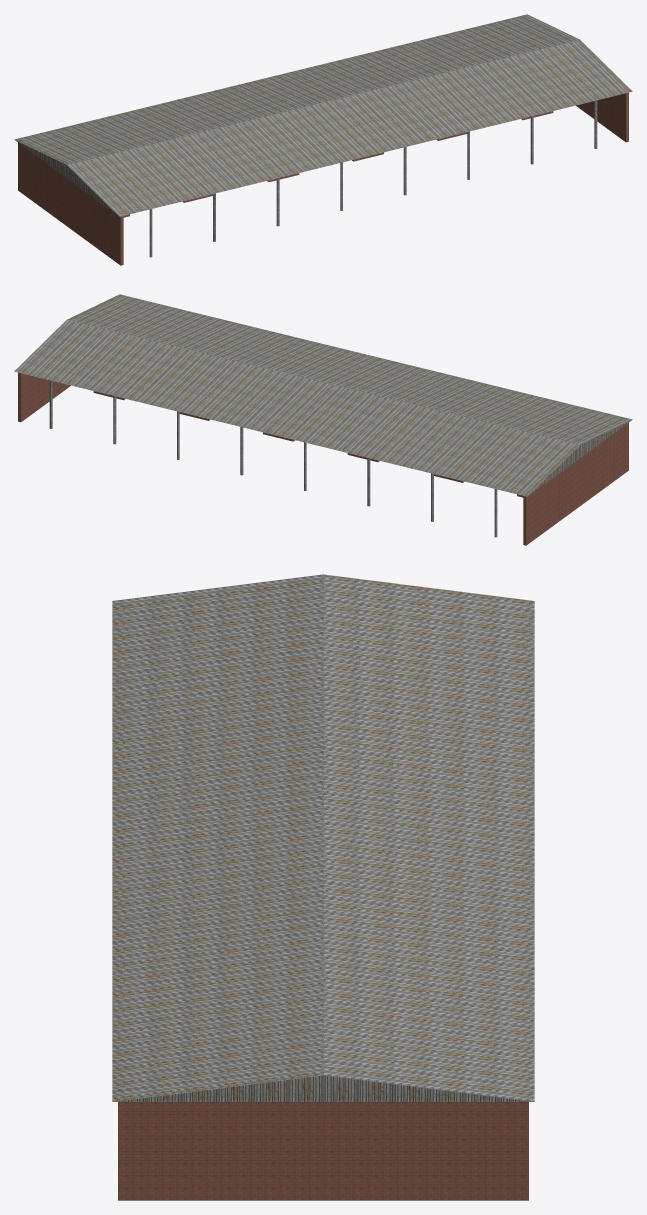
The model's file is market-hall-b_lod0.gltf.
3 views of the same model, one above another, from view 1: azimuth 30°, elevation 25°; view 2: azimuth 150°, elevation 25°; view 3: azimuth 270°, elevation 25° (orthographic). The views are drawn at different scales.
Parts seen in each view (by area): view 1: market-hall-b_roof, market-hall-b_endwalls, market-hall-b_columns, market-hall-b__stalls; view 2: market-hall-b_roof, market-hall-b_endwalls, market-hall-b_columns, market-hall-b__stalls; view 3: market-hall-b_roof, market-hall-b_endwalls.
Boxes of the visible parts, bbox=[...] form: market-hall-b_roof: bbox=[14, 14, 632, 216]; market-hall-b_endwalls: bbox=[18, 92, 628, 265]; market-hall-b_columns: bbox=[149, 100, 597, 257]; market-hall-b__stalls: bbox=[123, 111, 553, 217]; market-hall-b_roof: bbox=[14, 294, 632, 496]; market-hall-b_endwalls: bbox=[18, 372, 628, 545]; market-hall-b_columns: bbox=[49, 380, 497, 537]; market-hall-b__stalls: bbox=[93, 391, 523, 497]; market-hall-b_roof: bbox=[112, 574, 534, 1101]; market-hall-b_endwalls: bbox=[118, 1102, 528, 1200].
Bounding box in the file's own units: 101 × 12 × 36.
